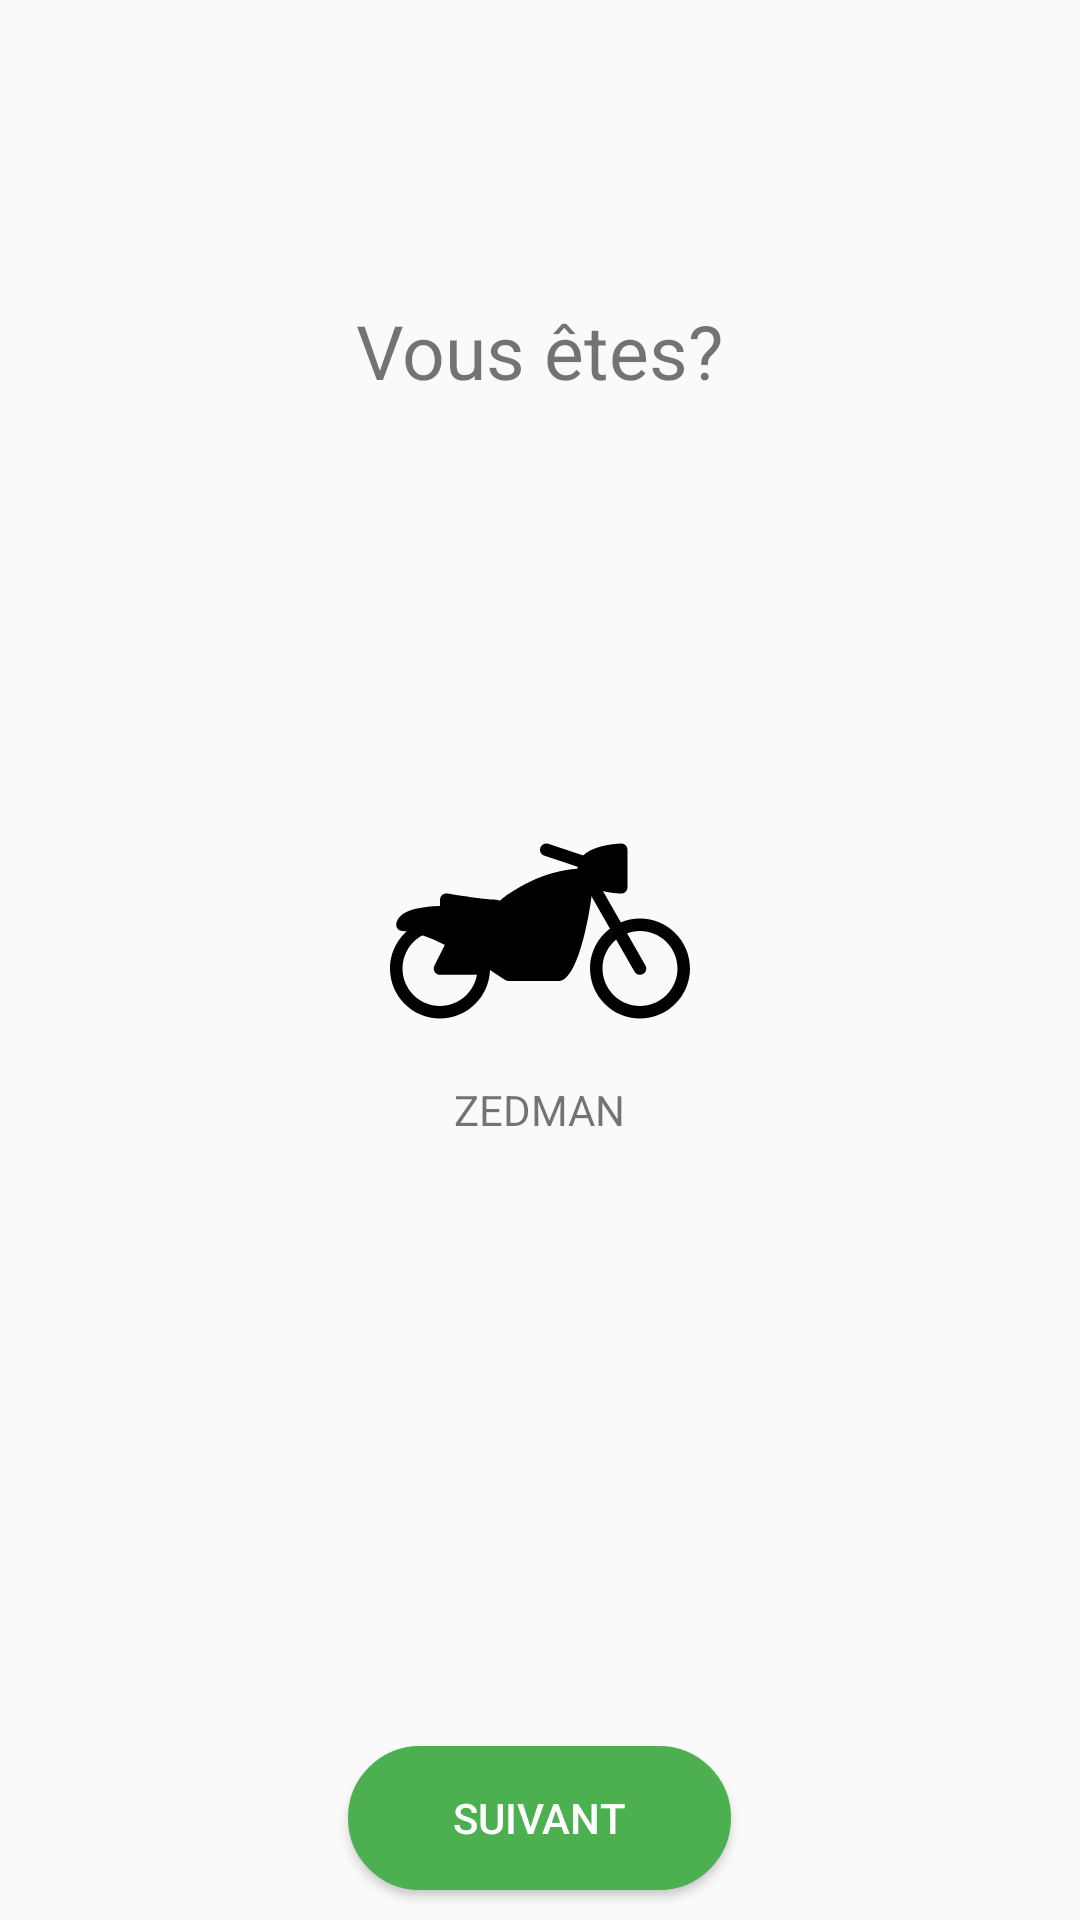

Screen size 1080px x 1920px. Icon name, then its center in pixels as [x,y]:
bike: [540,931]
